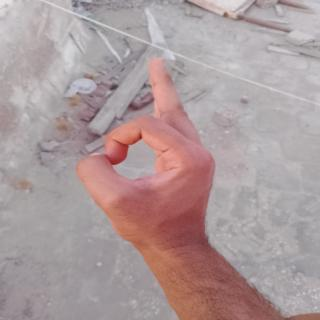Space: (78, 55, 221, 252)
